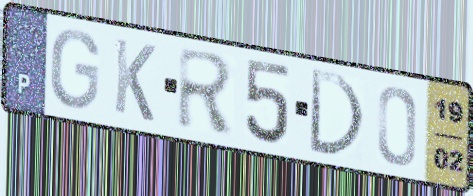0: (375, 83, 419, 168)
5: (244, 57, 293, 148)
D: (305, 65, 367, 161)
G: (48, 27, 103, 112)
K: (111, 34, 159, 126)
R: (175, 44, 237, 138)
